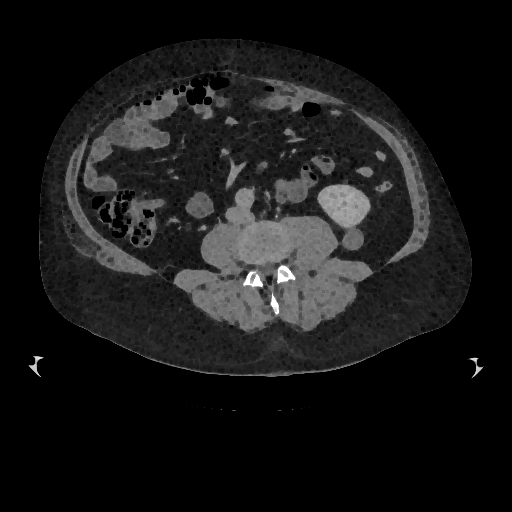Lesion: (339, 223, 367, 254)
